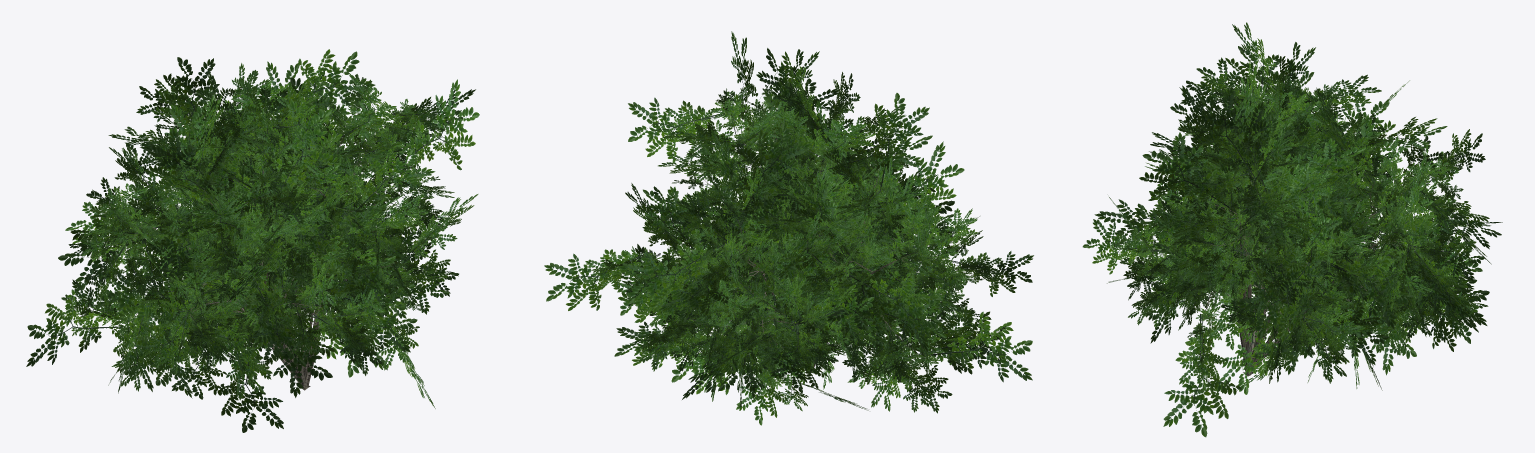
File: tree_rhododendron.glb
The picture shows the model from 3 angles, left to right: view 1: azimuth 30°, elevation 25°; view 2: azimuth 150°, elevation 25°; view 3: azimuth 270°, elevation 25°; orthographic projection. The views are drawn at different scales.
Visible parts, largest first — view 1: LOD1_leaves, LOD0_leaves, LOD0_trunk, LOD1_trunk; view 2: LOD1_leaves, LOD0_leaves; view 3: LOD1_leaves, LOD0_leaves, LOD1_trunk, LOD0_trunk.
Boxes of the visible parts, x1,y1,x2,y2 form: LOD1_leaves: (26, 49, 479, 432); LOD0_leaves: (61, 63, 458, 374); LOD0_trunk: (123, 134, 400, 390); LOD1_trunk: (127, 114, 403, 387); LOD1_leaves: (544, 31, 1033, 425); LOD0_leaves: (585, 82, 1001, 393); LOD1_leaves: (1082, 22, 1502, 437); LOD0_leaves: (1112, 68, 1482, 390); LOD1_trunk: (1164, 118, 1408, 375); LOD0_trunk: (1160, 149, 1427, 376).
Bounding box in the file's own units: 3.89 × 3.23 × 3.3.
2 materials, 2 textured.
